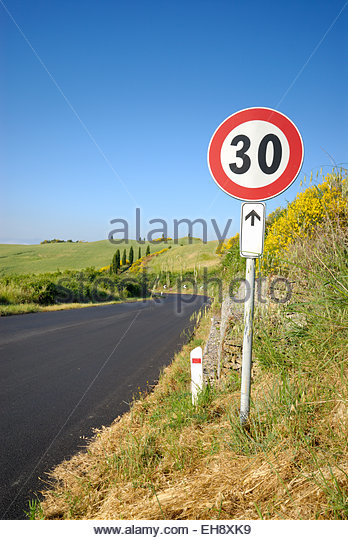Speed_limit_30km: (206, 107, 305, 203)
